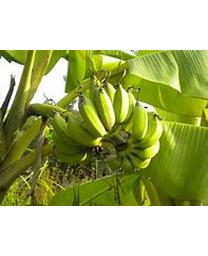banana: (48, 79, 165, 174)
